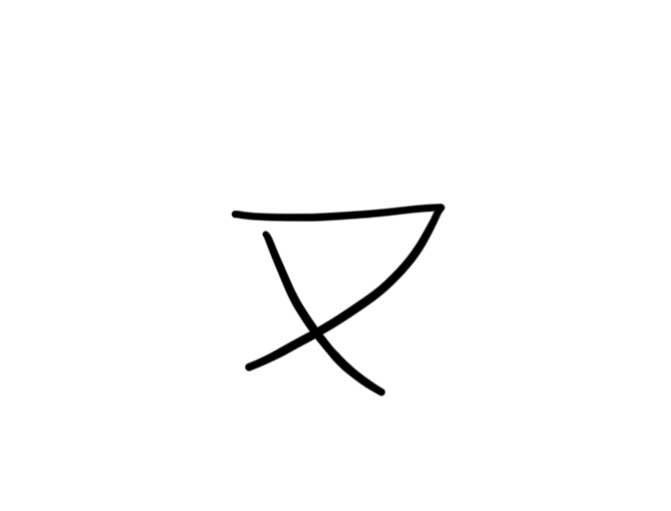nu: (217, 195, 455, 404)
